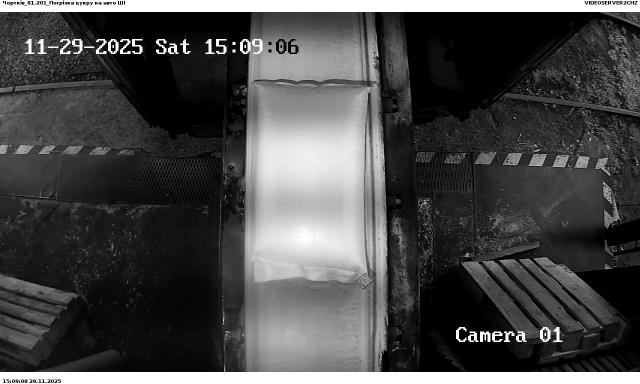bag: (254, 81, 373, 291)
